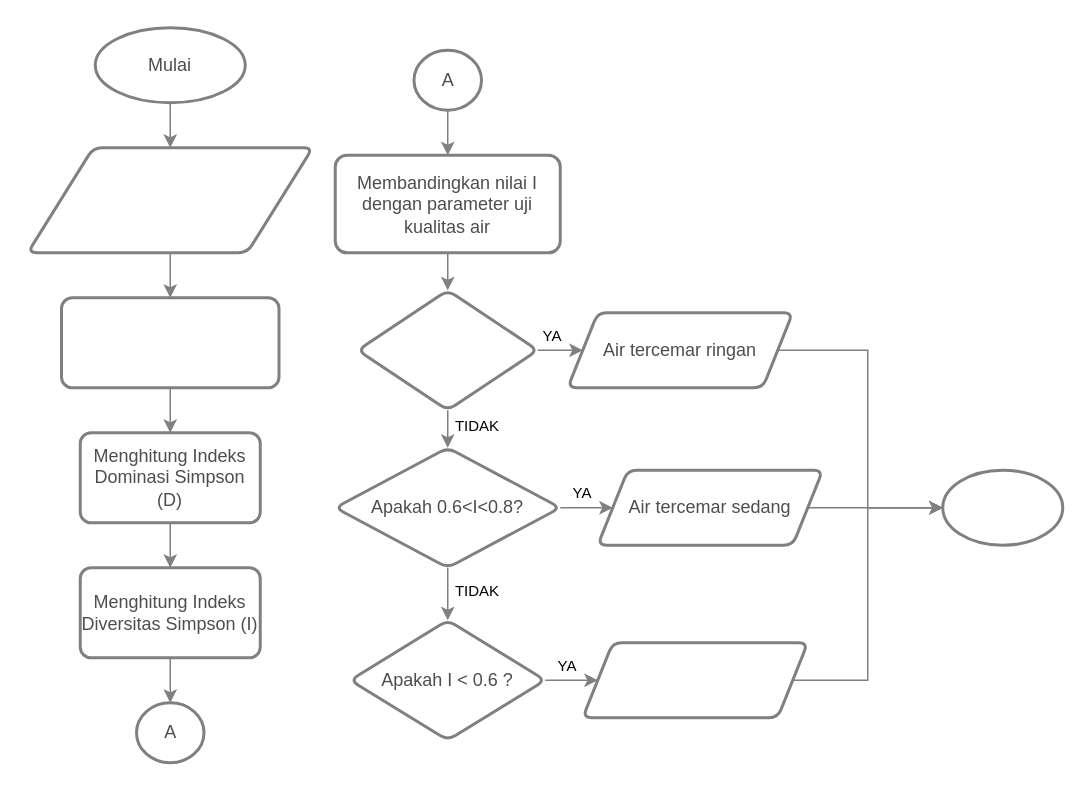
Image size: 1089x801. Some labels were removed from this diagram. The box of each missing label's shape, as (x1, y1, x2, y2) in pixels:
Air tercemar berat: (580, 640, 808, 718)
Apakah I > 0.8 ?: (356, 288, 538, 411)
Memasukkan banyak bentos dari setiap jenis (n1 s.d. n5): (26, 146, 314, 254)
Menjumlahkan setiap individu (N): (59, 296, 280, 388)
Selesai: (940, 468, 1064, 546)
